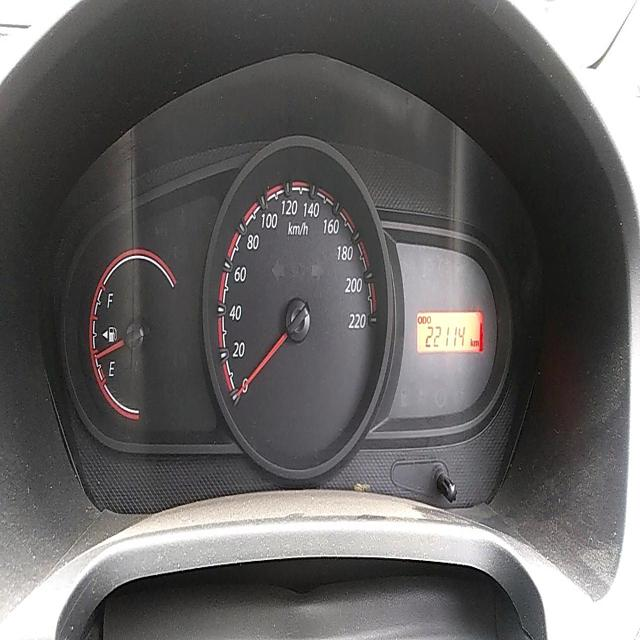odometer: (422, 319, 470, 353)
